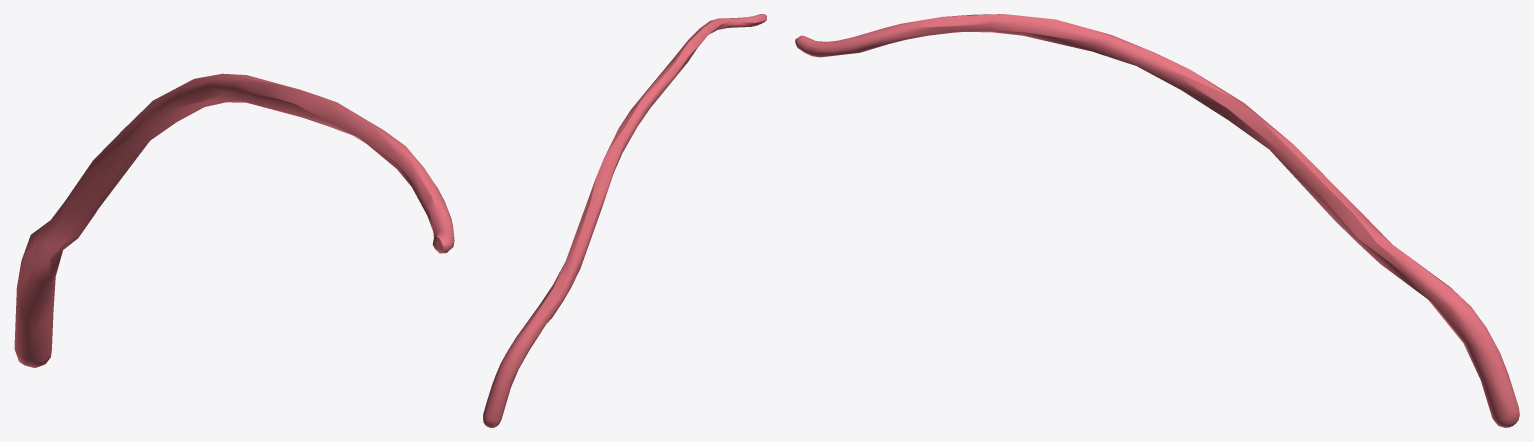
The model's file is fma51004_fj4690.glb.
3 views of the same model, side by side, from view 1: azimuth 30°, elevation 25°; view 2: azimuth 150°, elevation 25°; view 3: azimuth 270°, elevation 25° (orthographic). The views are drawn at different scales.
Visible parts, largest first — view 1: FMA51004_FJ4690; view 2: FMA51004_FJ4690; view 3: FMA51004_FJ4690.
Boxes of the visible parts, box(x1,y1,x2,y2) form: FMA51004_FJ4690: box(14, 73, 454, 367); FMA51004_FJ4690: box(483, 14, 766, 427); FMA51004_FJ4690: box(795, 14, 1519, 427).
Size of the model in its own units: 0.00418 by 0.0235 by 0.0393.
